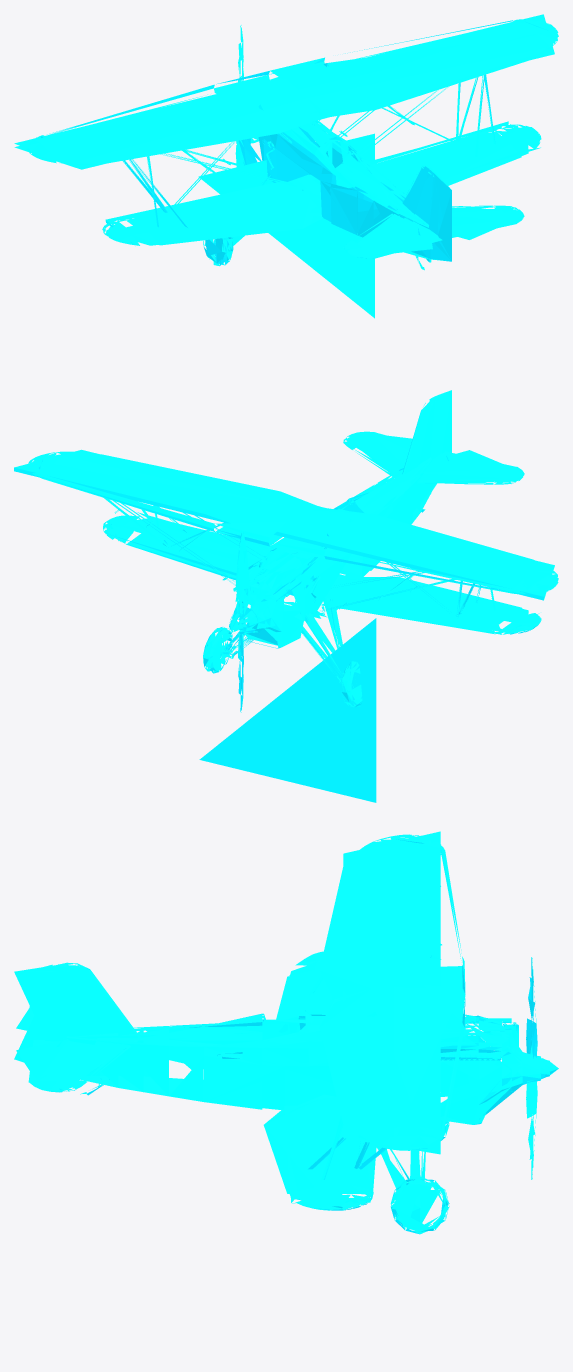
Rendered from PAAF013.glb.
3 renders of one model, top to bottom at view 1: azimuth 30°, elevation 25°; view 2: azimuth 150°, elevation 25°; view 3: azimuth 270°, elevation 25°, orthographic. The views are drawn at different scales.
Parts seen in each view (by area): view 1: misc; view 2: misc; view 3: misc.
Boxes of the visible parts, x1,y1,x2,y2 form: misc: (14,14,558,318); misc: (14,390,558,802); misc: (14,831,558,1234).
Size of the model in its own units: 0.6426 by 0.3269 by 0.4649.
